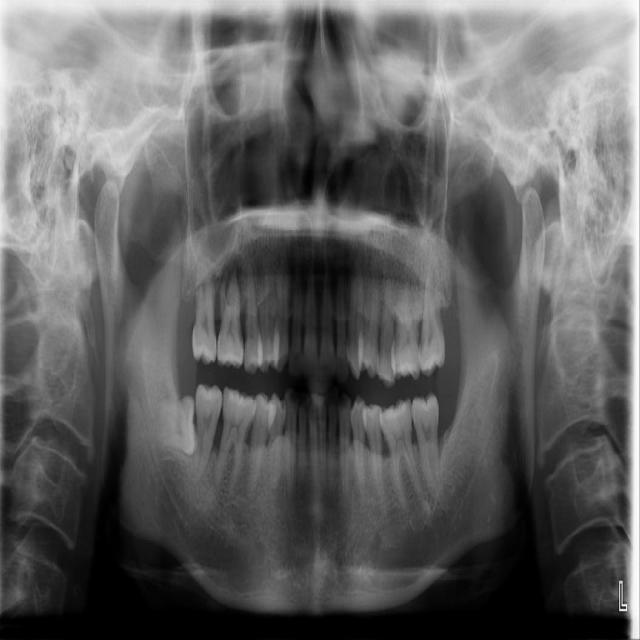73: (576, 560, 582, 572)
BioHorizons Implant: (418, 257, 451, 378)
Blue Sky Bio Implant: (410, 391, 448, 493)
Caries: (191, 257, 218, 365)
Implant: (192, 383, 223, 486)
Keystone Dental Implant: (153, 394, 199, 458)
